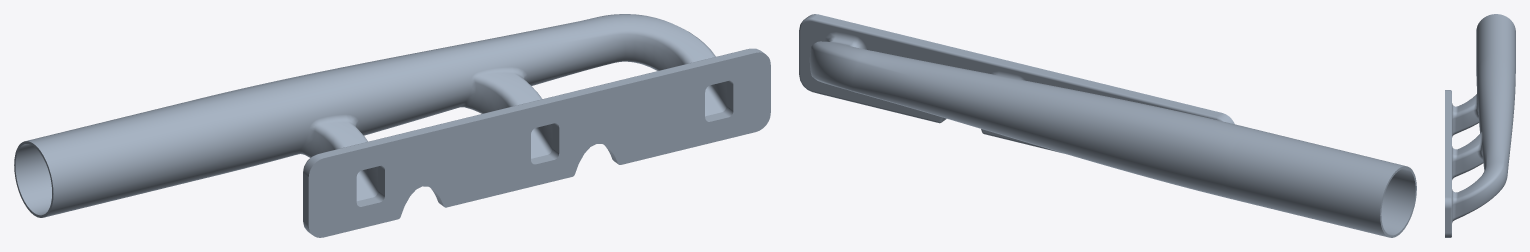
Rendered from exhaust_manifold.obj.
The picture shows the model from 3 angles, left to right: view 1: azimuth 30°, elevation 25°; view 2: azimuth 150°, elevation 25°; view 3: azimuth 270°, elevation 25°; orthographic projection. The views are drawn at different scales.
Visible parts, largest first — view 1: 1; view 2: 1; view 3: 1.
Part boxes in pixels (x1=…): 1: x1=14, y1=14, x2=770, y2=237; 1: x1=799, y1=14, x2=1416, y2=237; 1: x1=1445, y1=14, x2=1515, y2=237.
Bounding box in the file's own units: 575 × 92.07 × 102.
